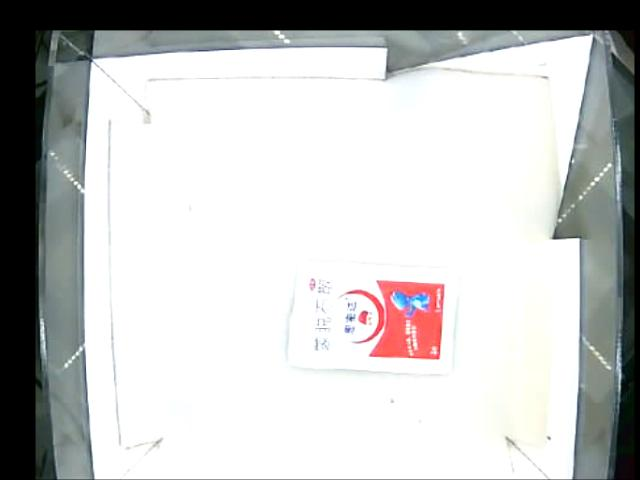Medicine: (283, 260, 456, 374)
